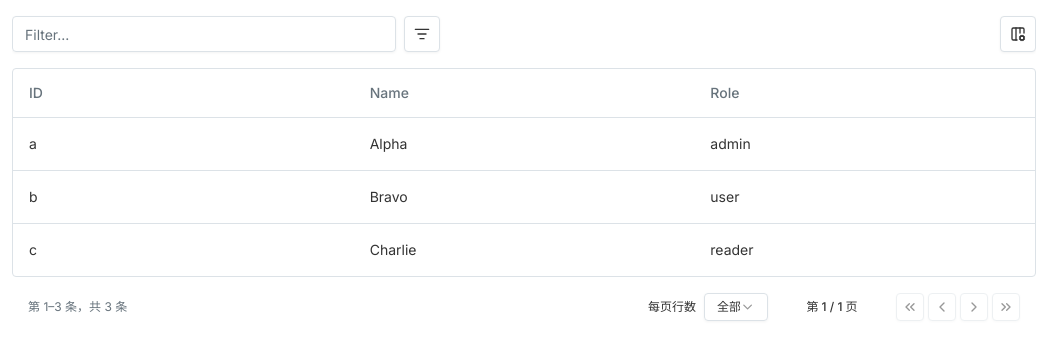
Test case: DataTable — multi-column search › narrows the search when the picker disables a candidate
This screenshot has width=1048, height=338.
Click the button named "搜索范围" at coordinates (422, 34), box [404, 16, 440, 52]
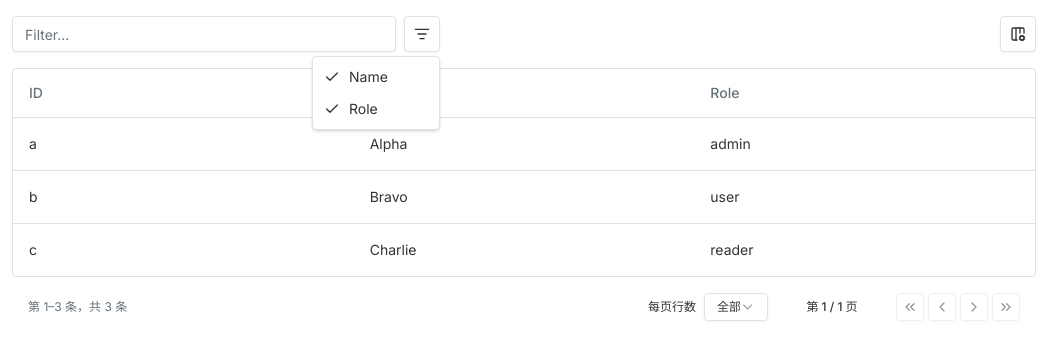
// Uncheck the `Role` column so "reader" can no longer match Charlie.
Click the menu item "role" at coordinates (351, 108), box [324, 100, 378, 117]
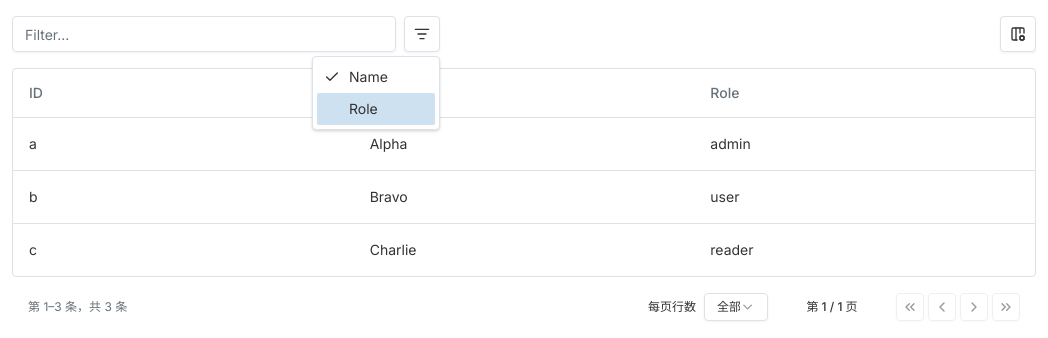
Press Escape
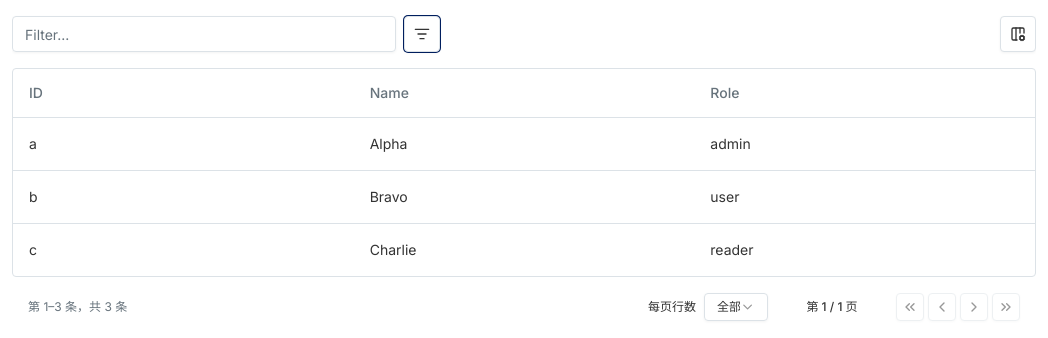
Type "reader" into the field with placeholder "Filter..." at coordinates (204, 34), box [13, 16, 395, 52]
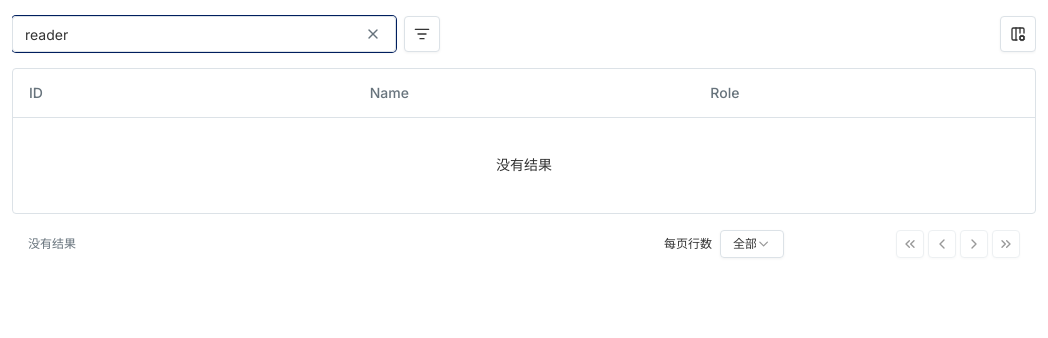
Check: the text "没有结果" is shown, box [13, 117, 1035, 213]
